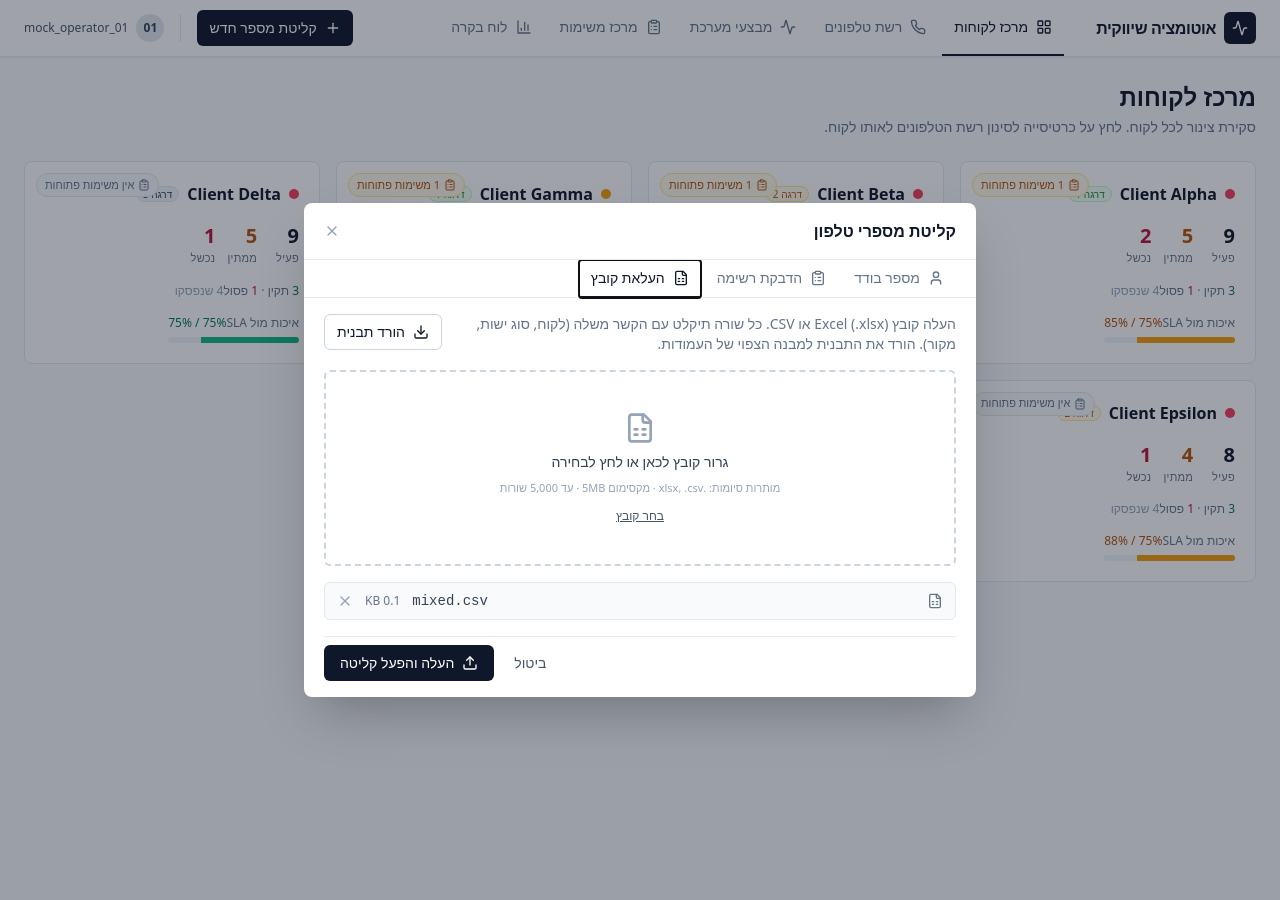
Test: Phase E1-D — file-upload tab › per-row failure lands in failed_rows with the correct 1-based index
Earlier steps of the test are not shown.
Step 1. Click the button "העלה והפעל קליטה" → (409, 663), box [324,645,494,681]
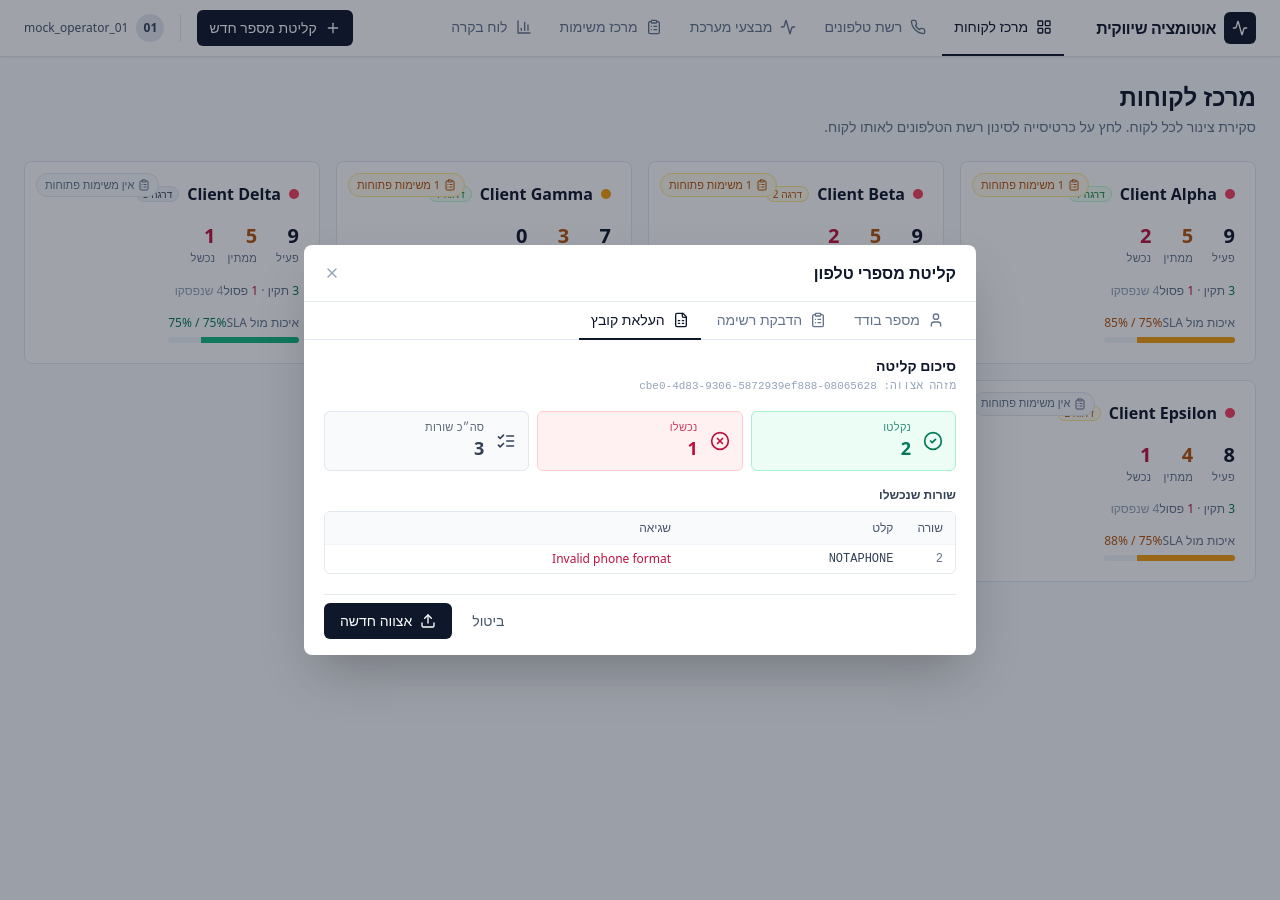
Check: the cell "2" is shown, box [906,544,955,573]
